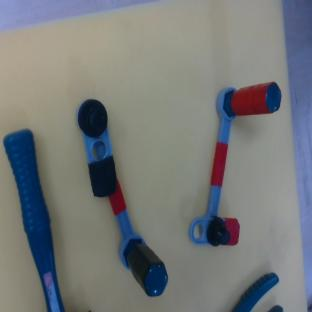non_pass: (62, 95, 174, 304)
pass: (174, 67, 286, 255)
